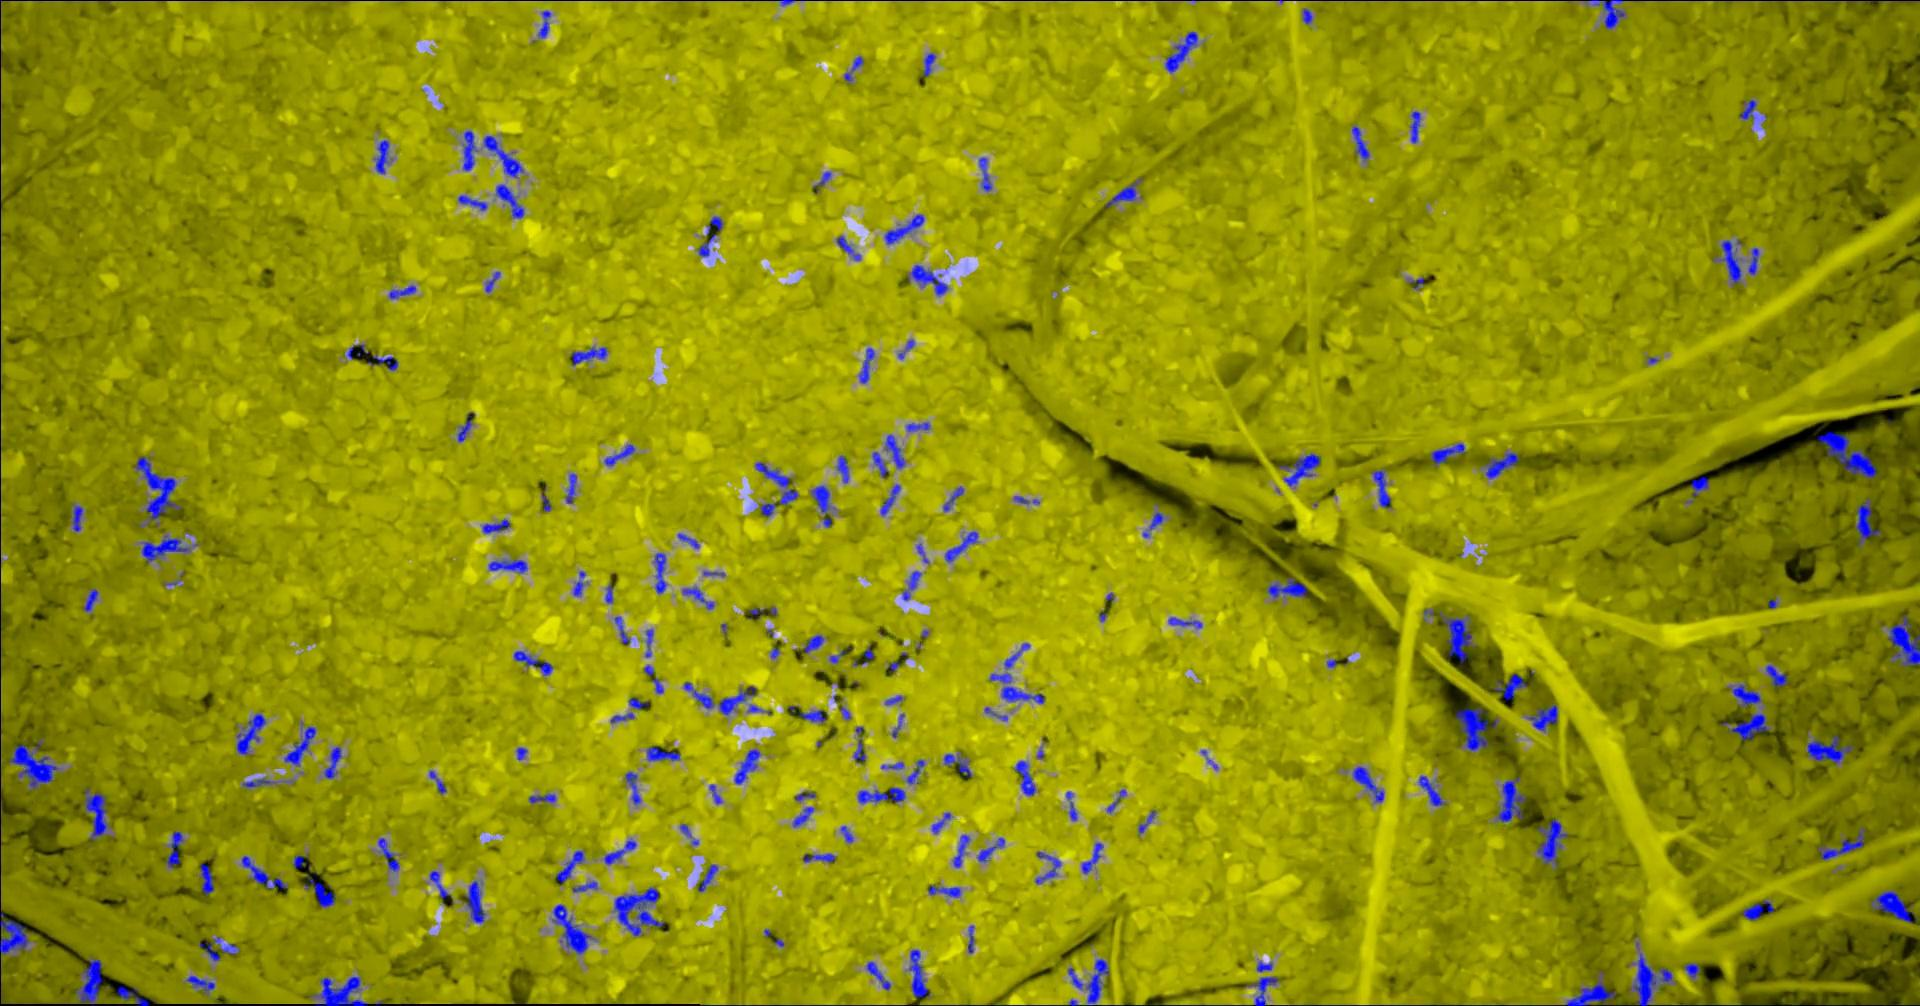ant: (135, 456, 180, 520), (9, 737, 57, 788), (613, 887, 663, 935), (754, 461, 797, 516), (551, 904, 596, 954), (1632, 951, 1672, 1005), (1455, 708, 1497, 749), (1564, 970, 1615, 1005), (309, 976, 367, 1005), (483, 135, 523, 177), (1437, 611, 1470, 662), (1887, 615, 1919, 666), (989, 673, 1044, 702), (1817, 826, 1864, 859), (1537, 818, 1567, 868), (241, 855, 287, 888), (0, 907, 28, 959), (1277, 452, 1321, 485), (1870, 890, 1915, 922), (1164, 30, 1197, 72), (141, 535, 189, 563), (84, 788, 109, 840), (1806, 735, 1853, 763), (1496, 777, 1525, 822), (75, 958, 102, 1005), (283, 727, 315, 766), (907, 264, 947, 295), (236, 713, 265, 754), (884, 213, 923, 244), (1855, 497, 1879, 545), (717, 685, 756, 715), (1352, 766, 1383, 801), (1086, 958, 1109, 1005), (1730, 713, 1768, 741), (305, 873, 335, 907), (908, 949, 930, 997), (697, 216, 723, 257), (943, 531, 977, 561), (495, 184, 524, 218), (198, 936, 239, 960), (1244, 976, 1277, 1005), (1719, 239, 1741, 283), (1590, 0, 1624, 28), (513, 650, 552, 674), (1266, 575, 1309, 597), (555, 850, 584, 882), (1493, 673, 1528, 700), (1103, 180, 1137, 207), (1483, 452, 1517, 478), (734, 749, 759, 784), (810, 485, 830, 527), (1034, 851, 1060, 883), (1418, 775, 1445, 805), (465, 880, 484, 922), (683, 681, 712, 708), (1528, 704, 1557, 730), (116, 984, 154, 1005), (603, 840, 636, 862), (429, 870, 452, 903), (1430, 443, 1464, 465), (377, 837, 399, 871), (857, 788, 905, 803), (1015, 760, 1035, 795), (1371, 470, 1390, 507), (682, 586, 712, 608), (1081, 842, 1103, 873), (1003, 641, 1029, 668), (943, 753, 971, 777), (977, 837, 1004, 861), (866, 962, 890, 989), (884, 434, 904, 467), (571, 345, 606, 365), (1732, 683, 1760, 706), (323, 746, 342, 779), (165, 829, 182, 868), (880, 484, 900, 514), (1742, 899, 1773, 920), (836, 235, 860, 260), (1351, 126, 1369, 160), (604, 445, 634, 465), (462, 130, 476, 170), (858, 347, 874, 384), (902, 570, 921, 600), (488, 559, 527, 573), (952, 835, 969, 868), (843, 56, 863, 83), (1688, 475, 1708, 502), (366, 353, 397, 370), (698, 864, 717, 890), (625, 771, 640, 804), (457, 412, 474, 441), (185, 976, 215, 992), (375, 138, 389, 173), (852, 644, 874, 666), (1765, 664, 1787, 686), (654, 553, 665, 593), (646, 746, 679, 760), (943, 486, 963, 511), (1106, 789, 1125, 813), (199, 862, 213, 894), (905, 760, 924, 782), (1137, 810, 1156, 833), (481, 518, 509, 533), (978, 158, 990, 191), (927, 884, 960, 897), (931, 812, 950, 833), (457, 196, 486, 210), (615, 616, 630, 643), (792, 807, 813, 826), (853, 727, 865, 760), (389, 285, 415, 298), (872, 451, 886, 478), (429, 770, 444, 794), (1738, 99, 1756, 119), (813, 171, 830, 192), (897, 339, 914, 359), (803, 634, 823, 652), (484, 271, 500, 292), (571, 570, 585, 596), (797, 709, 825, 721), (565, 473, 577, 503), (83, 588, 98, 611), (1067, 967, 1082, 989), (836, 455, 848, 481), (1168, 617, 1201, 627), (1410, 111, 1420, 142), (243, 777, 273, 788), (922, 52, 935, 76), (538, 10, 550, 37), (677, 533, 698, 547), (1065, 791, 1076, 821), (803, 854, 836, 862), (71, 506, 83, 531), (1683, 962, 1699, 978), (644, 627, 653, 657), (571, 882, 597, 892), (1749, 246, 1757, 274), (1149, 511, 1163, 528), (709, 784, 721, 803), (528, 793, 555, 801), (629, 697, 648, 709), (905, 422, 930, 431), (292, 854, 307, 868), (610, 713, 632, 721), (1013, 495, 1039, 503), (841, 826, 852, 842), (541, 493, 551, 511), (1302, 8, 1312, 24), (881, 761, 903, 768), (604, 583, 612, 603), (1256, 962, 1272, 970), (968, 925, 973, 951)
